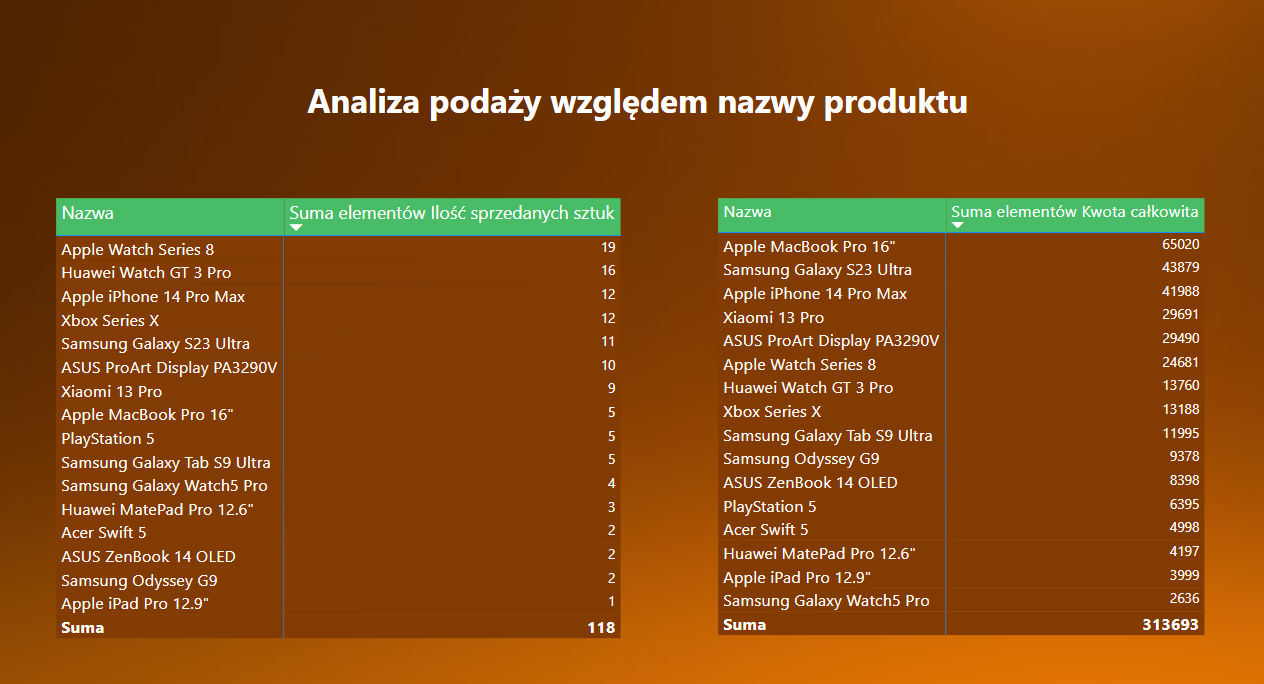

The dashboard page shown, as its layout file describes it:
{"tool":"powerbi","page":{"name":"Strona 6","canvas":[1280,720],"ordinal":5},"visuals":[{"type":"pivotTable","fields":{"Values":["Sum(Zamówienia.Ilość sprzedanych sztuk)"],"Rows":["Produkty.Nazwa "]},"box":[70.4,204.9,575.1,458.3],"z":0},{"type":"pivotTable","fields":{"Values":["Sum(Zamówienia.Kwota całkowita)"],"Rows":["Produkty.Nazwa "]},"box":[713.8,204.9,492.9,464.7],"z":1000},{"type":"textbox","box":[314.5,87.5,662.5,57.4],"z":2000}]}

Visuals, with their boxes on the page's 1280x720 design canvas (x1, y1, x2, y2). These are canvas units, not pixel positions in the 1264x684 screenshot, which may show the page scaled, cropped or inside an application window:
pivotTable - Sum(Zamówienia.Ilość sprzedanych sztuk) x Produkty.Nazwa : region(70, 205, 646, 663)
pivotTable - Sum(Zamówienia.Kwota całkowita) x Produkty.Nazwa : region(714, 205, 1207, 670)
textbox: region(314, 88, 977, 145)
